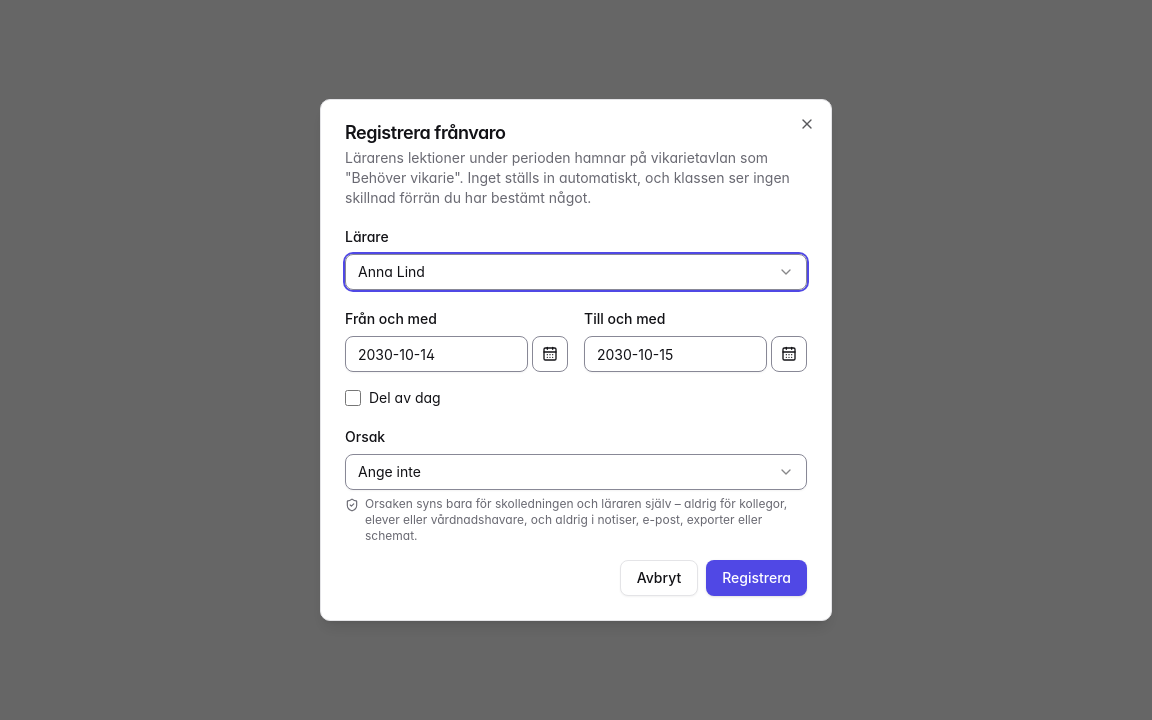
Test: Registrera frånvaro › says what is wrong before a round trip: an end before the start on one day
The width and height of the screenshot is (1152, 720).
Replace the text in the field labelled "Till och med" with "2030-10-14" at [676, 354], box [584, 336, 767, 372]
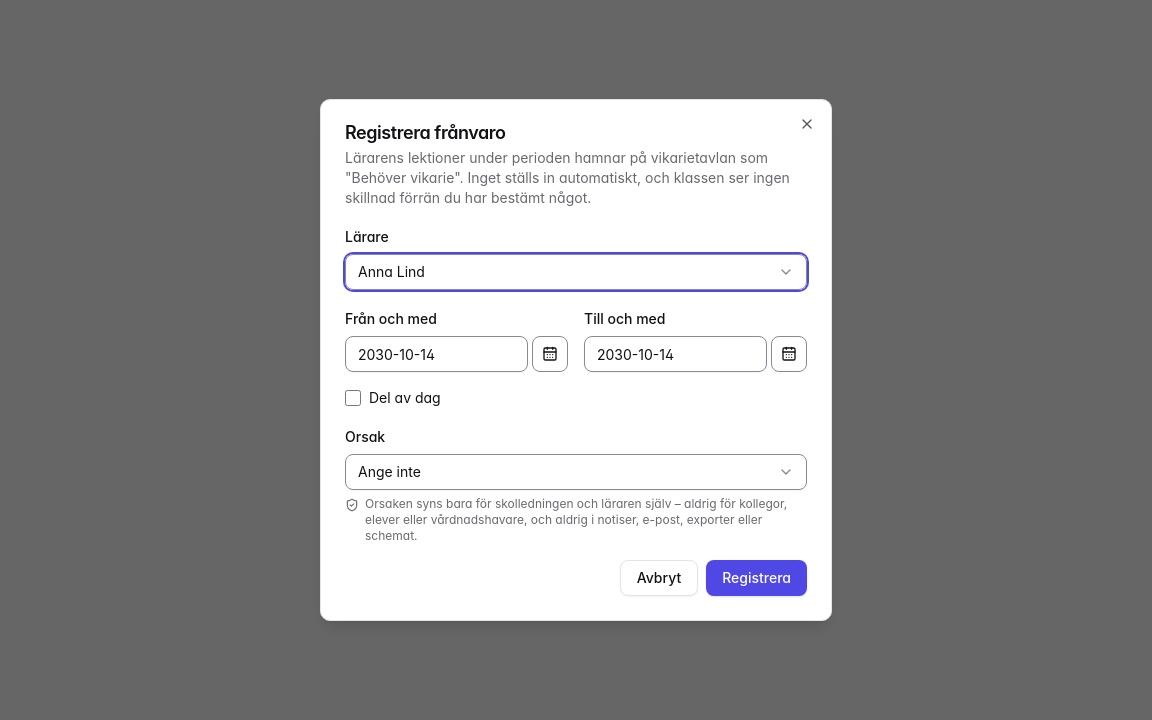
Click the checkbox labelled "Del av dag".
click(353, 398)  # box [345, 390, 361, 406]
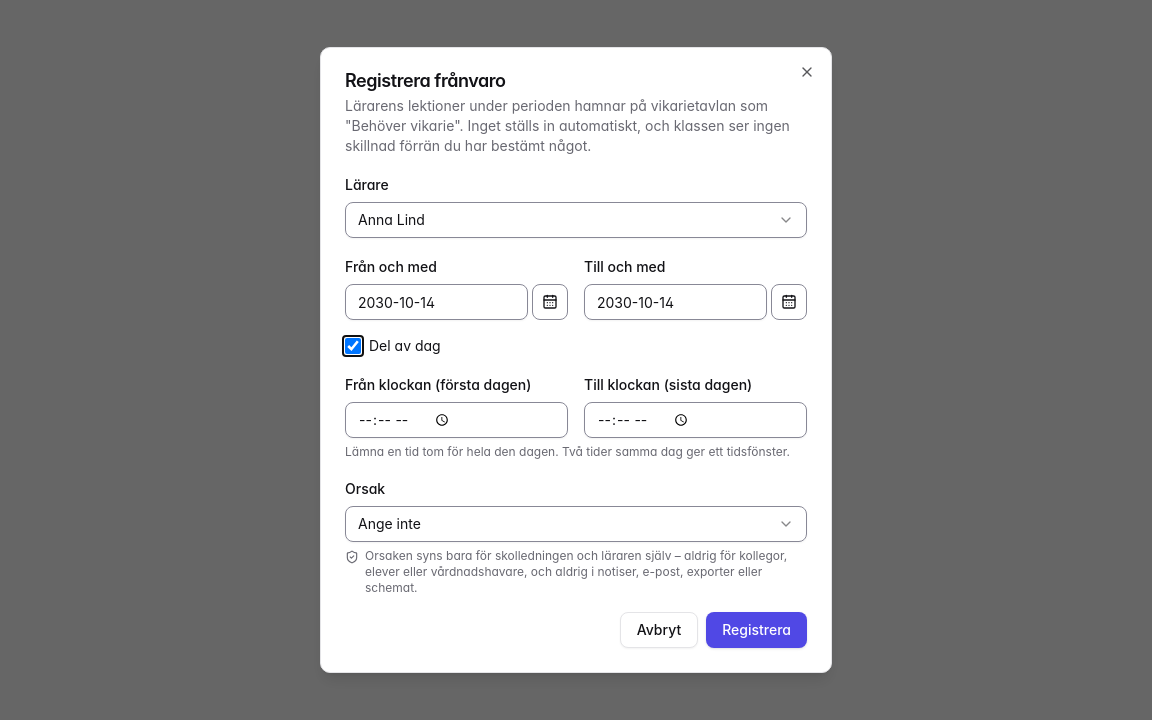
Type "12:00" into the time field labelled "Från klockan (första dagen)".
click(456, 420); type("12:00")  # box [345, 402, 568, 438]
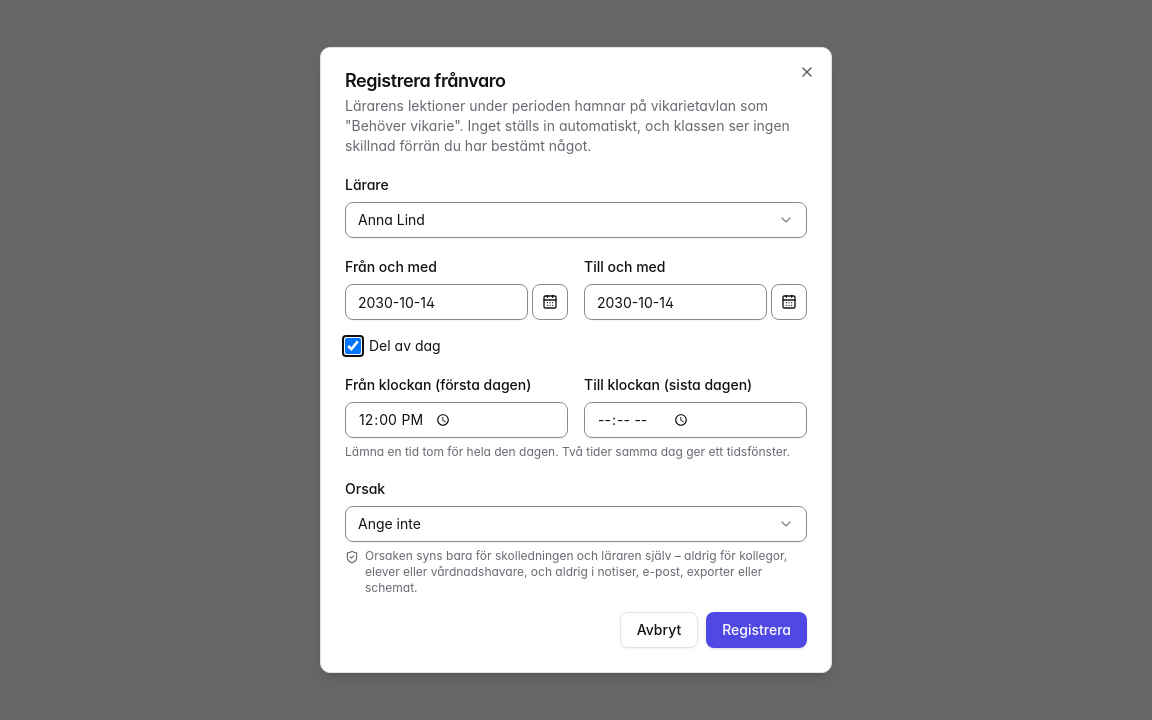
Type "08:00" into the time field labelled "Till klockan (sista dagen)".
click(696, 420); type("08:00")  # box [584, 402, 807, 438]
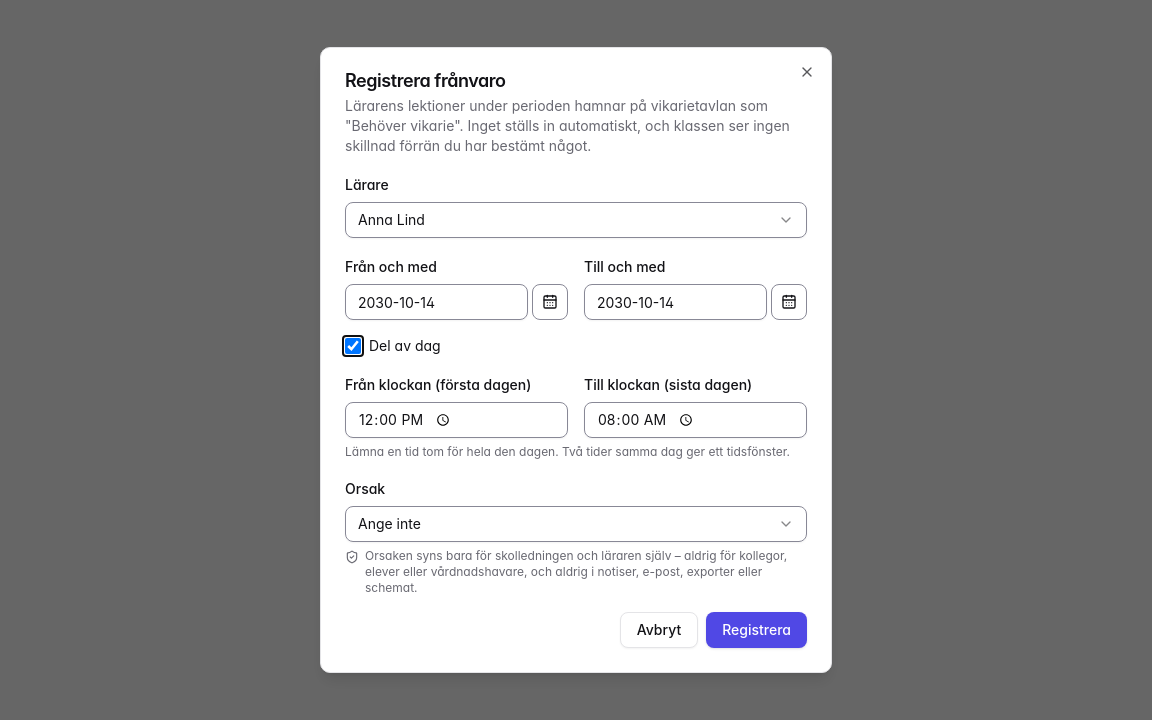
Click the button "Registrera".
click(757, 630)  # box [706, 612, 807, 648]
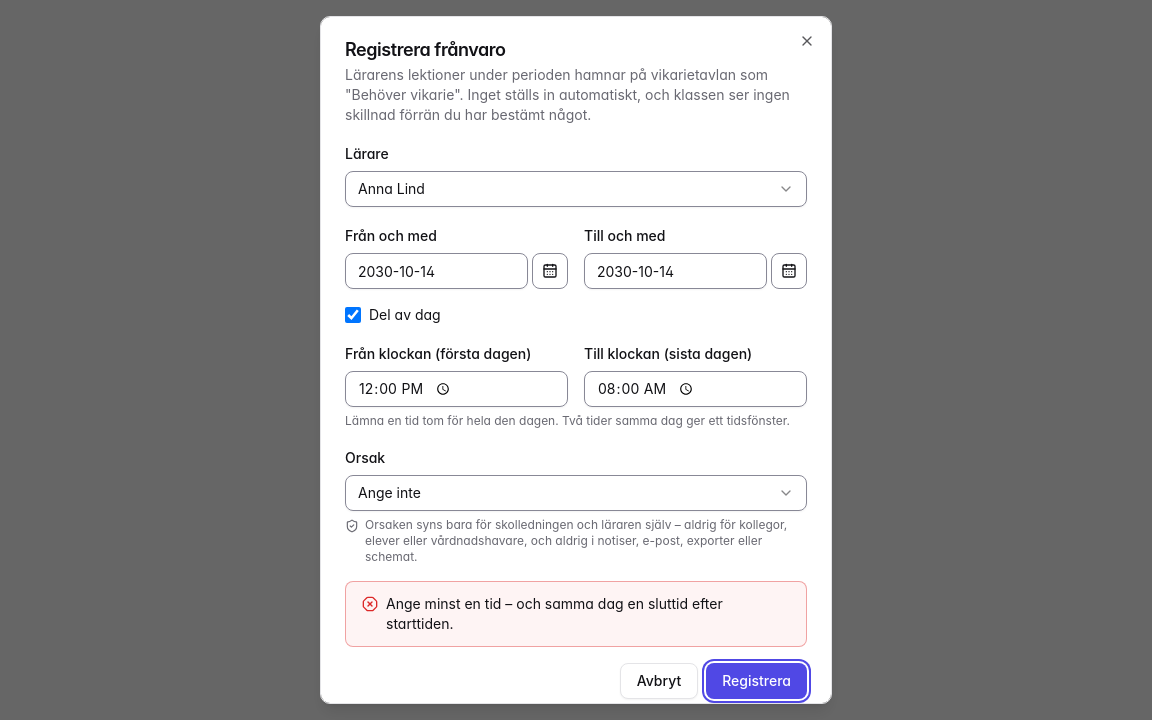
Result: the message reads "Ange minst en tid – och samma dag en sluttid efter starttiden." at [386, 595, 723, 632]
